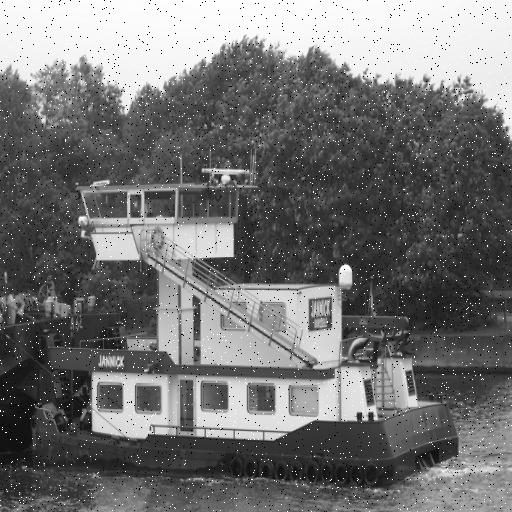tugboat: (28, 165, 464, 498)
